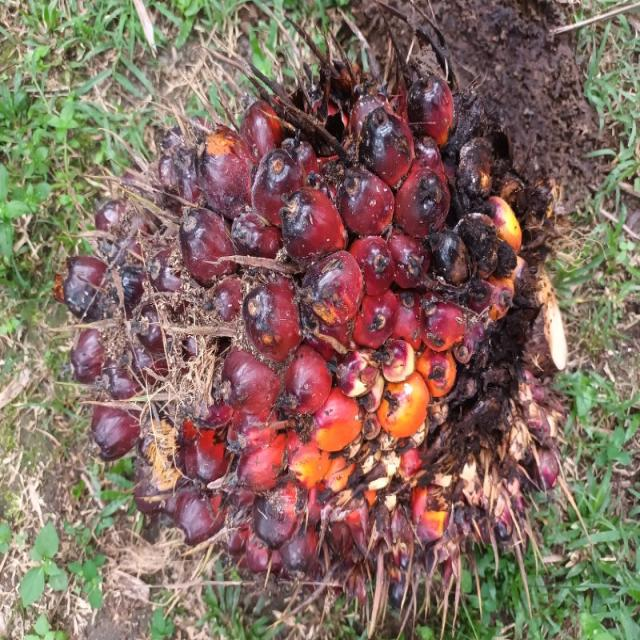fraksi 1: (53, 40, 536, 588)
